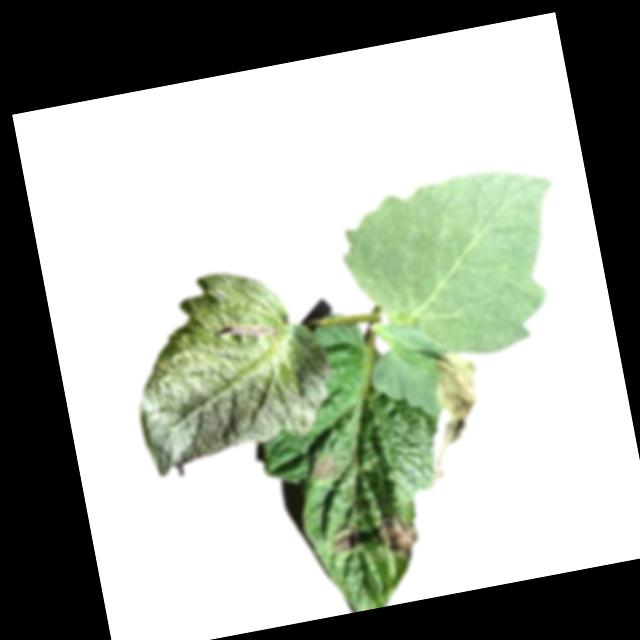Late_blight: (422, 348, 493, 467), (377, 507, 420, 562), (309, 452, 347, 483), (330, 526, 360, 554)
healthy: (331, 157, 584, 377), (116, 254, 346, 481)
